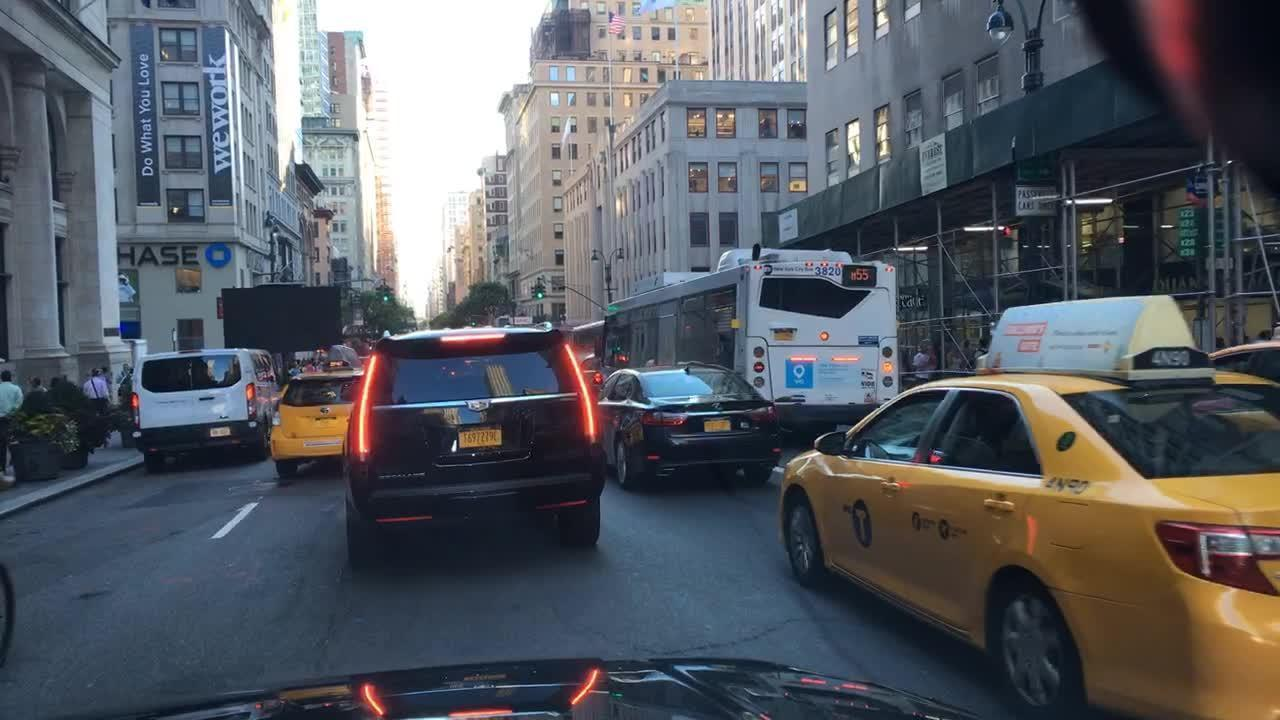Toyota: (319, 403, 332, 418)
cadillac: (460, 394, 493, 417)
lexus: (708, 398, 727, 416)
